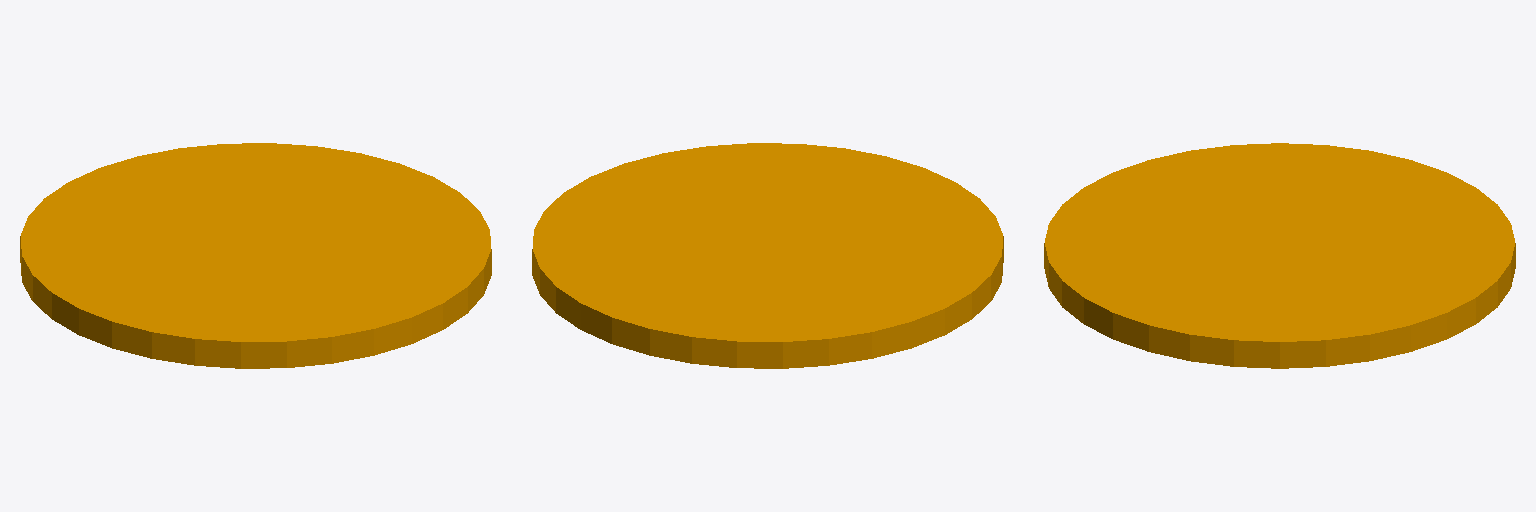
URDF robot description (cylinder):
<?xml version="1.0"?>
<robot name="cylinder">
 <link name="body">
  <inertial>
    <mass value="1"/>
    <inertia ixx="0.1" ixy="0" ixz="0" iyy="0.1" iyz="0" izz="0.1"/>
  </inertial>
  <visual>
    <origin rpy="0 0 0" xyz="0 0 0"/>
    <geometry>
      <cylinder length="0.1" radius="0.80"/>
    </geometry>
  </visual>
  <collision>
    <origin rpy="0 0 0" xyz="0 0 0"/>
    <geometry>
      <cylinder length="0.1" radius="0.80"/>
    </geometry>
  </collision>
 </link>

  <klampt package_root="../../.." default_acc_max="4" >
  </klampt>
</robot>

--- Render facts (derived) ---
The picture shows the robot from 3 angles, left to right: view 1: azimuth 30°, elevation 25°; view 2: azimuth 150°, elevation 25°; view 3: azimuth 270°, elevation 25°; orthographic projection.
Model cylinder with 1 links and 0 joints (none), rooted at body, posed all joints at 0.
Links seen in each view (by area): view 1: body; view 2: body; view 3: body.
Link boxes in pixels (x1,y1,x2,y2): body: [20, 143, 491, 368]; body: [532, 143, 1003, 368]; body: [1044, 143, 1515, 368].
Size in the robot's own frame: 1.6 by 1.6 by 0.1 metres.
Geometry: primitives only (box / cylinder / sphere), no mesh files.